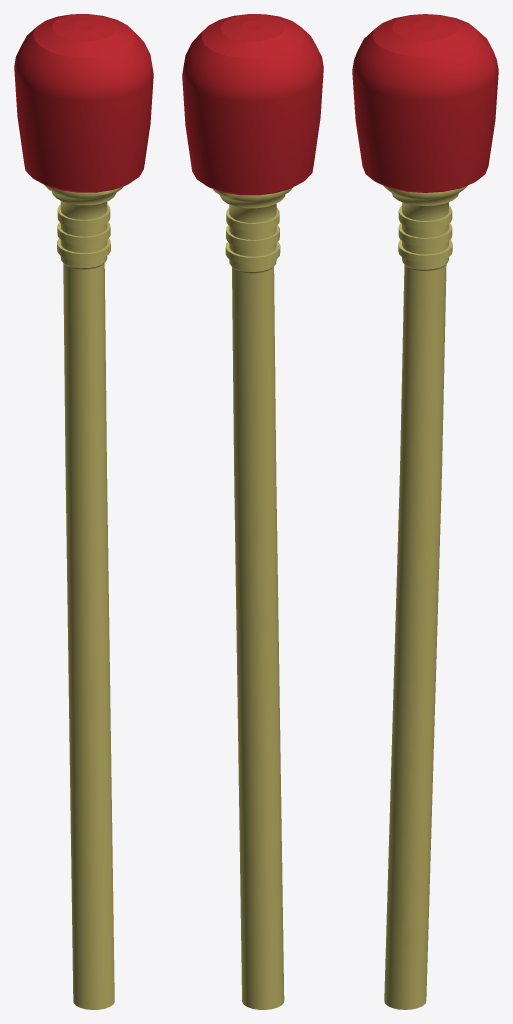
File: Scepter.fbx
The picture shows the model from 3 angles, left to right: view 1: azimuth 30°, elevation 25°; view 2: azimuth 150°, elevation 25°; view 3: azimuth 270°, elevation 25°; orthographic projection.
Parts seen in each view (by area): view 1: pCylinder1; view 2: pCylinder1; view 3: pCylinder1.
Boxes of the visible parts, bbox=[...] form: pCylinder1: bbox=[14, 14, 153, 1009]; pCylinder1: bbox=[182, 14, 323, 1009]; pCylinder1: bbox=[352, 14, 498, 1009].
Size of the model in its own units: 0.5848 by 4.52 by 0.6155.
Materials: 1 (1 with a texture image).
